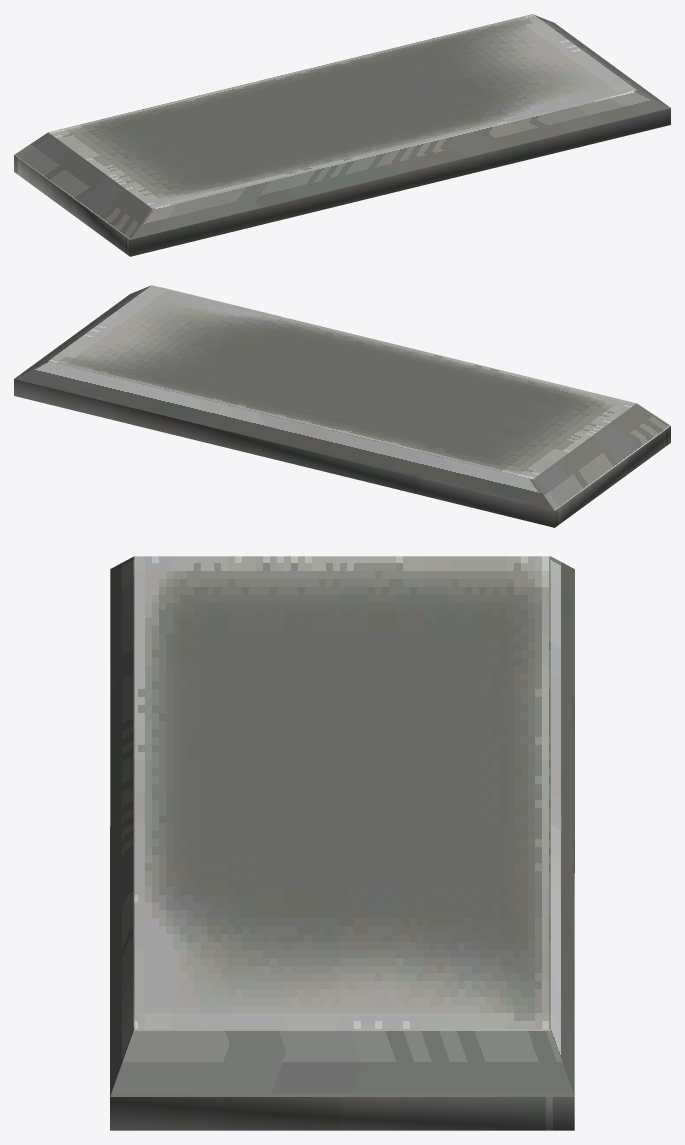
3 renders of one model, top to bottom at view 1: azimuth 30°, elevation 25°; view 2: azimuth 150°, elevation 25°; view 3: azimuth 270°, elevation 25°, orthographic. The views are drawn at different scales.
Visible parts, largest first — view 1: mt_09; view 2: mt_09; view 3: mt_09.
Part boxes in pixels (<box>): mt_09: <box>14,14,670,256</box>; mt_09: <box>14,285,670,527</box>; mt_09: <box>110,556,574,1130</box>.
Bounding box in the file's own units: 0.6776 × 0.0444 × 0.2522.
1 material, 1 textured.
